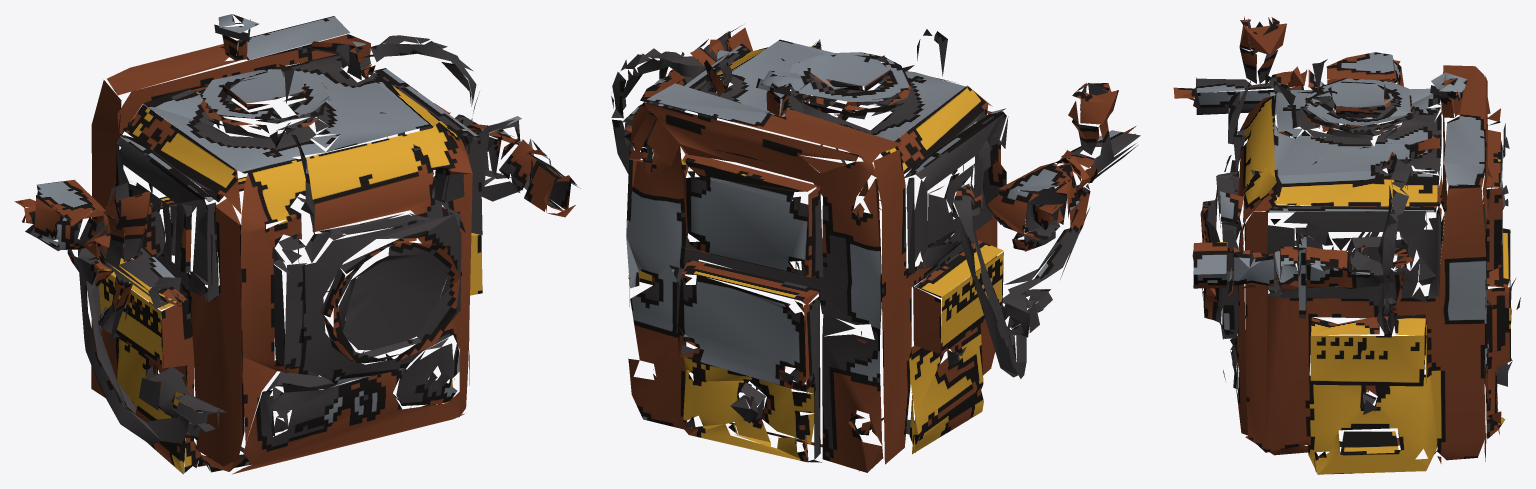
File: mo_scavenger.glb
The picture shows the model from 3 angles, left to right: view 1: azimuth 30°, elevation 25°; view 2: azimuth 150°, elevation 25°; view 3: azimuth 270°, elevation 25°; orthographic projection. The views are drawn at different scales.
Visible parts, largest first — view 1: mo_scavenger; view 2: mo_scavenger; view 3: mo_scavenger.
Boxes of the visible parts, left/top/right/bottom form: mo_scavenger: left=14, top=14, right=580, bottom=474; mo_scavenger: left=611, top=25, right=1140, bottom=472; mo_scavenger: left=1173, top=16, right=1520, bottom=474.
Bounding box in the file's own units: 0.2 × 0.1627 × 0.1461.
Materials: 1 (1 with a texture image).
